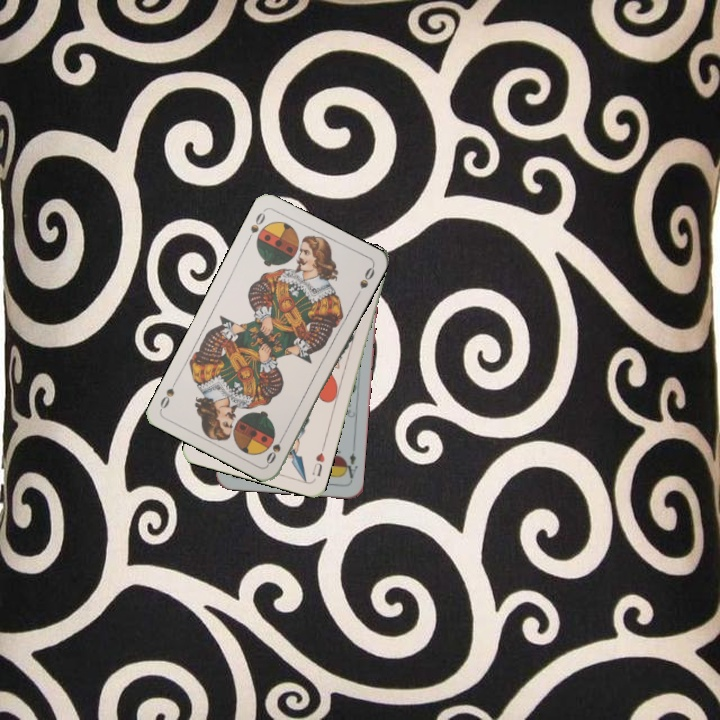EA: (340, 448, 360, 481)
HU: (308, 442, 327, 479)
SO: (262, 429, 288, 467), (243, 206, 268, 244)
